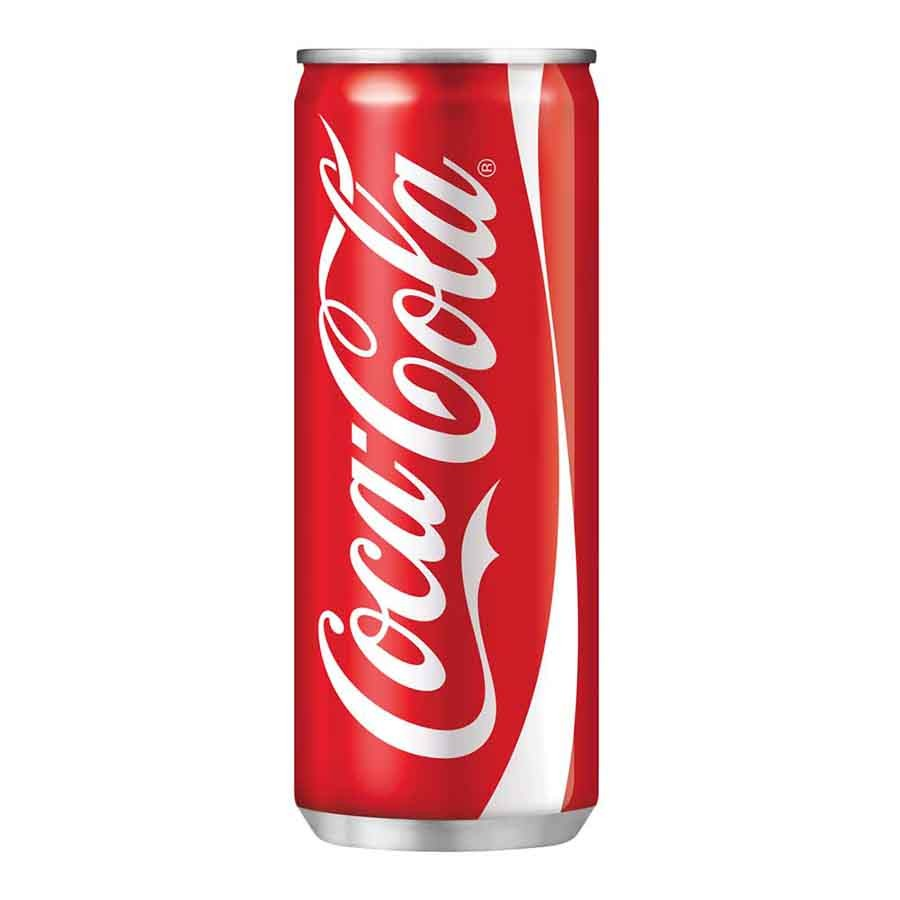coke: (298, 110, 516, 774)
